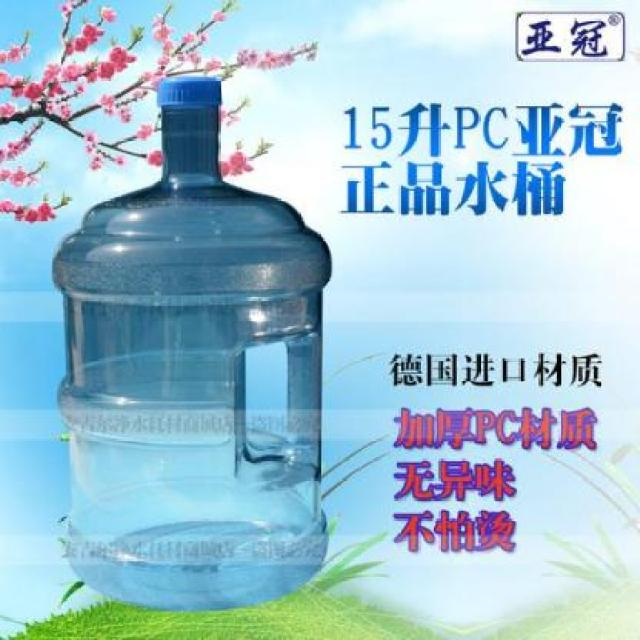coolerbottle: (46, 72, 337, 618)
